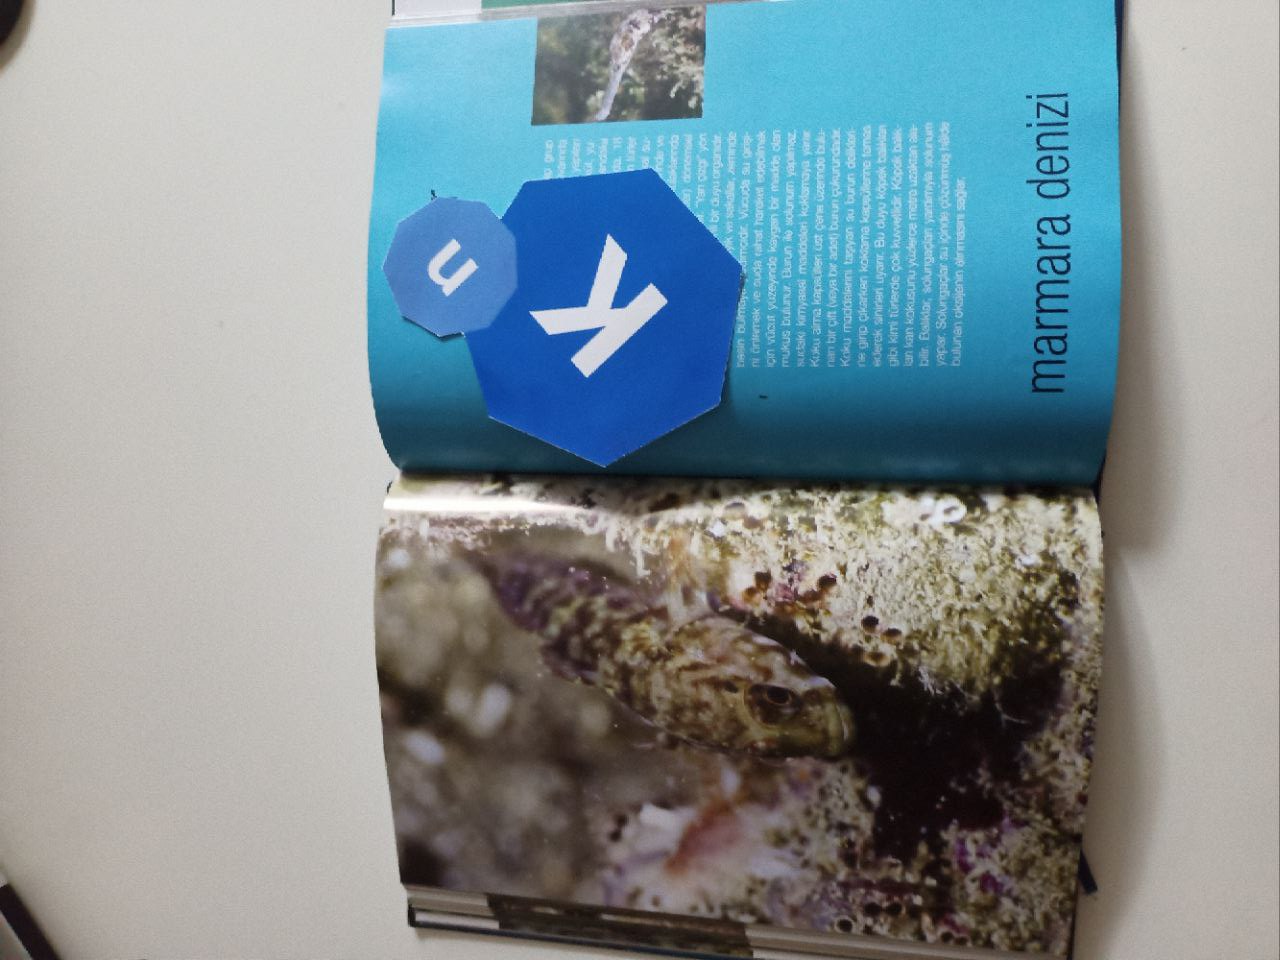knative: (380, 164, 746, 467)
